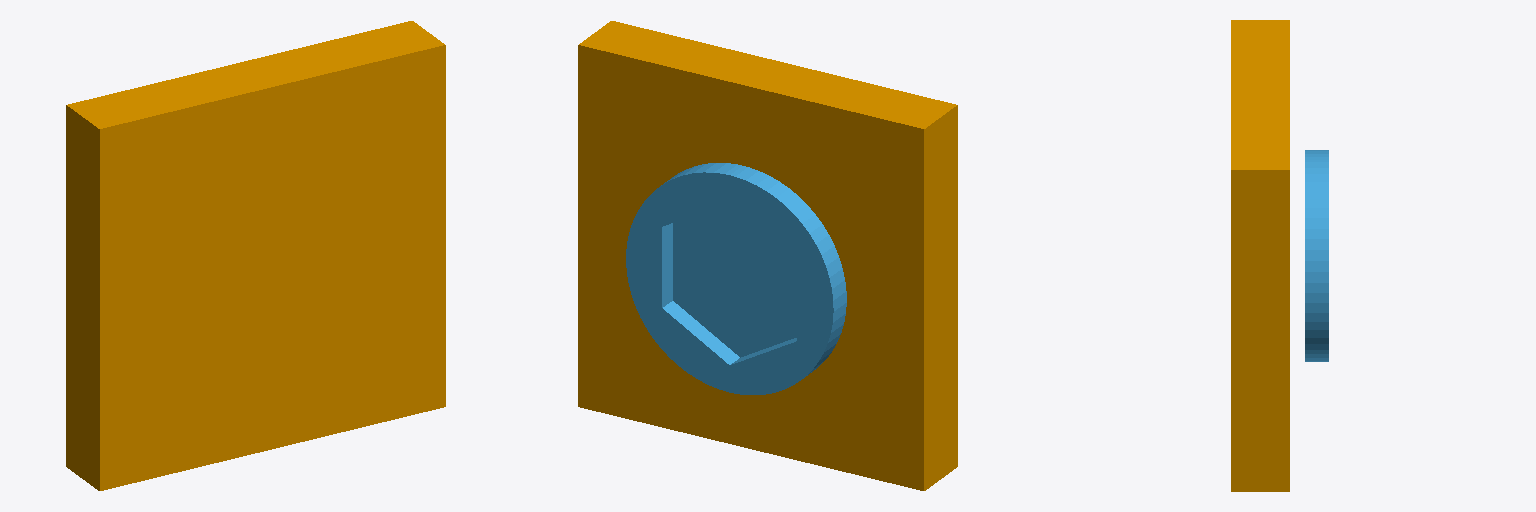
URDF robot description (hex_screw_base):
<?xml version="1.0"?>
<robot name="hex_screw_base">

  <link name="base">
    <visual>
      <origin xyz="0 0.01 0" rpy="0 0 0"/>
      <geometry>
        <box size="0.12 0.02 0.12"/>
      </geometry>
    </visual>	
    <collision>
      <origin xyz="0 0.01 0" rpy="0 0 0"/>
      <geometry>
        <box size="0.12 0.02 0.12"/>
      </geometry>
    </collision>
  </link>

  <link name="screw">
    <visual>
      <origin xyz="0 0 0" rpy="0 0 0"/>
      <geometry>
        <mesh filename="hex_screw/screw_head.obj" scale="0.0018 0.00125 0.0018"/>
      </geometry>
    </visual>	
    <collision>
      <origin xyz="0 0 0" rpy="0 0 0"/>
      <geometry>
        <mesh filename="hex_screw/screw_head.obj" scale="0.0018 0.00125 0.0018"/>
      </geometry>
    </collision>
  </link>

  <joint name="screw_to_base" type="revolute">
    <parent link="base"/>
    <child link="screw"/>
    <origin xyz="0 0.025 0"/>
    <axis xyz="0 1 0"/>
    <limit lower="-3.14" upper="3.14" effort="100" velocity="3"/>
  </joint>

</robot>

--- Facts derived from the render (not from the file) ---
3 views of the same robot in one strip: view 1: azimuth 30°, elevation 25°; view 2: azimuth 150°, elevation 25°; view 3: azimuth 270°, elevation 25° (orthographic).
Robot: hex_screw_base — 2 links, 1 joints (1 revolute); root link base; default pose: every joint at zero.
Links seen in each view (by area): view 1: base; view 2: base, screw; view 3: base, screw.
Boxes of the visible links, x1,y1,x2,y2 form: base: (66,21,445,490); base: (578,21,957,490); screw: (626,163,846,394); base: (1231,20,1289,491); screw: (1305,150,1328,361).
Bounding box of the posed robot: 0.12 × 0.0329 × 0.12 m (x, y, z).
Meshes: 1 distinct files referenced, 1 mesh visuals loaded (1 OBJ).